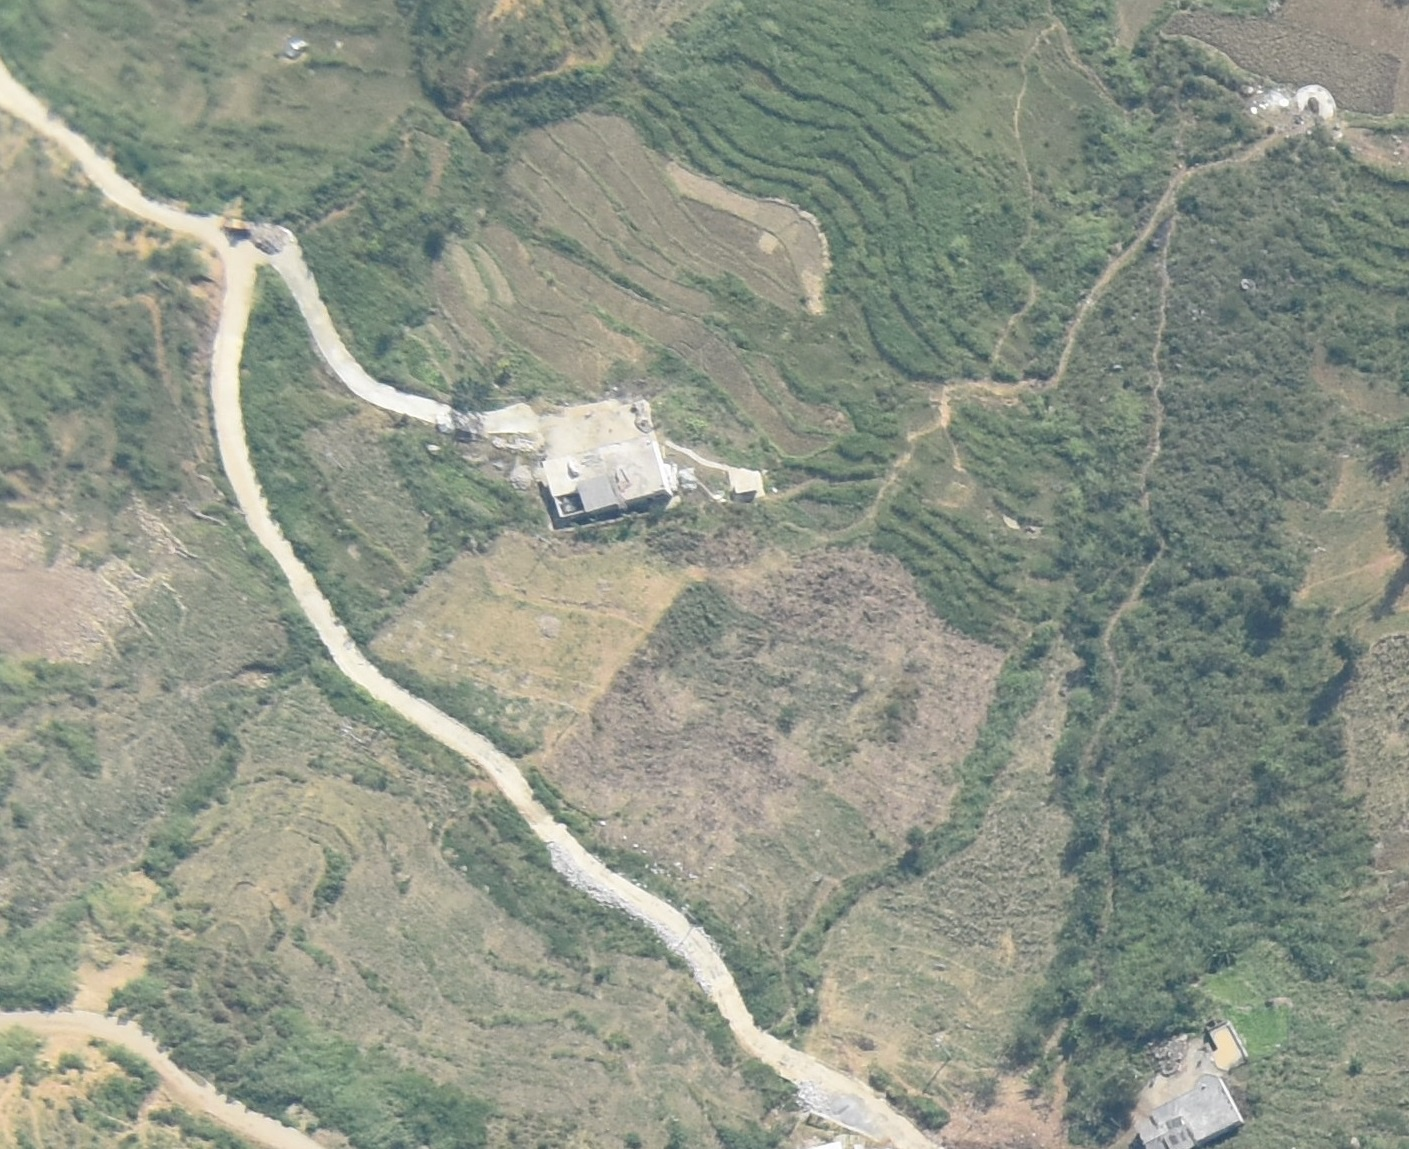building: (540, 435, 669, 518), (1133, 1078, 1244, 1149), (1207, 1022, 1250, 1071), (728, 469, 760, 498)
well: (1294, 82, 1337, 123)
